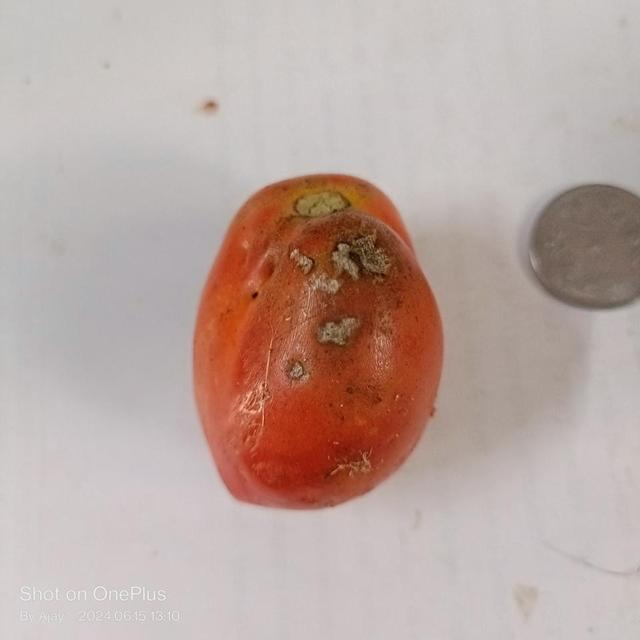Bacterial Spot Fruit: (189, 146, 267, 259)
